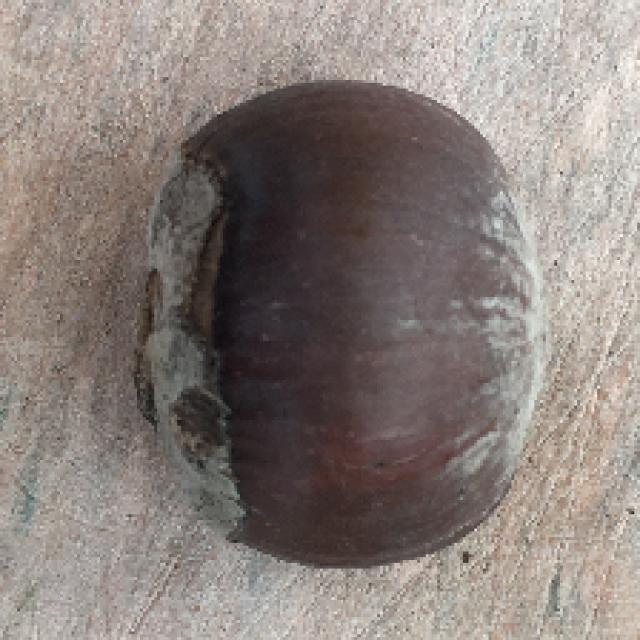damagedHazelnut: (126, 59, 554, 568)
